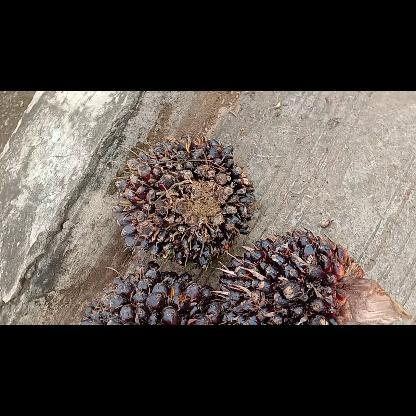TBS mentah: (112, 132, 258, 274), (218, 228, 404, 324), (74, 256, 230, 324)
